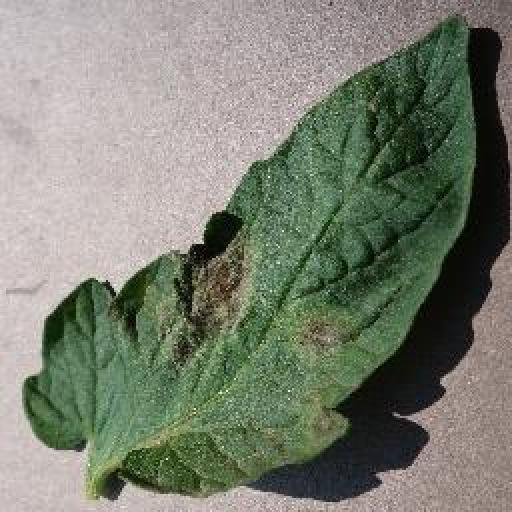disease_tomato: (24, 9, 477, 499)
